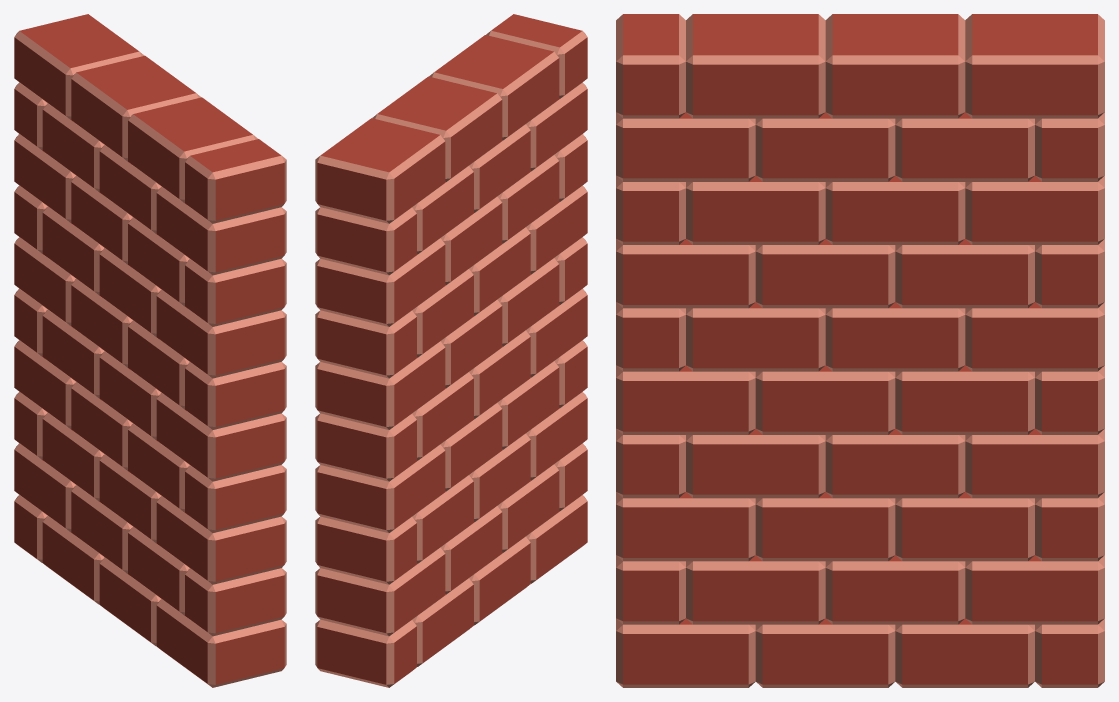
File: Left Wall.fbx
The picture shows the model from 3 angles, left to right: view 1: azimuth 30°, elevation 25°; view 2: azimuth 150°, elevation 25°; view 3: azimuth 270°, elevation 25°; orthographic projection. The views are drawn at different scales.
Visible parts, largest first — view 1: Cube.159, Cube.161, Cube.160, Cube.162, Cube.158, Cube.030, Cube.062, Cube.126, Cube.094, Cube.130, Cube.034, Cube.066 (+28 smaller); view 2: Cube.159, Cube.160, Cube.161, Cube.127, Cube.031, Cube.095, Cube.063, Cube.155, Cube.027, Cube.059, Cube.123, Cube.091 (+28 smaller); view 3: Cube.160, Cube.159, Cube.161, Cube.061, Cube.125, Cube.064, Cube.096, Cube.032, Cube.029, Cube.093, Cube.157, Cube.063 (+28 smaller).
Boxes of the visible parts, left/top/right/bottom form: Cube.159: left=14, top=14, right=144, bottom=119; Cube.161: left=128, top=97, right=257, bottom=202; Cube.160: left=71, top=55, right=201, bottom=161; Cube.162: left=185, top=139, right=286, bottom=223; Cube.158: left=156, top=186, right=286, bottom=275; Cube.030: left=156, top=599, right=286, bottom=687; Cube.062: left=156, top=496, right=286, bottom=584; Cube.126: left=156, top=290, right=286, bottom=378; Cube.094: left=156, top=393, right=286, bottom=481; Cube.130: left=185, top=258, right=286, bottom=326; Cube.034: left=185, top=568, right=286, bottom=636; Cube.066: left=185, top=465, right=286, bottom=532; Cube.159: left=315, top=118, right=445, bottom=223; Cube.160: left=372, top=76, right=502, bottom=182; Cube.161: left=429, top=35, right=559, bottom=140; Cube.127: left=315, top=238, right=445, bottom=326; Cube.031: left=315, top=547, right=445, bottom=636; Cube.095: left=315, top=341, right=445, bottom=429; Cube.063: left=315, top=444, right=445, bottom=532; Cube.155: left=315, top=207, right=416, bottom=275; Cube.027: left=315, top=619, right=416, bottom=687; Cube.059: left=315, top=516, right=416, bottom=584; Cube.123: left=315, top=310, right=416, bottom=378; Cube.091: left=315, top=413, right=416, bottom=481; Cube.160: left=825, top=14, right=965, bottom=118; Cube.159: left=965, top=14, right=1104, bottom=118; Cube.161: left=686, top=14, right=825, bottom=118; Cube.061: left=755, top=492, right=895, bottom=561; Cube.125: left=755, top=239, right=895, bottom=308; Cube.064: left=825, top=428, right=965, bottom=498; Cube.096: left=825, top=302, right=965, bottom=371; Cube.032: left=825, top=555, right=965, bottom=624; Cube.029: left=755, top=618, right=895, bottom=687; Cube.093: left=755, top=365, right=895, bottom=434; Cube.157: left=755, top=112, right=895, bottom=181; Cube.063: left=965, top=429, right=1104, bottom=498.
Size of the model in its own units: 0.8 by 5 by 3.5.
